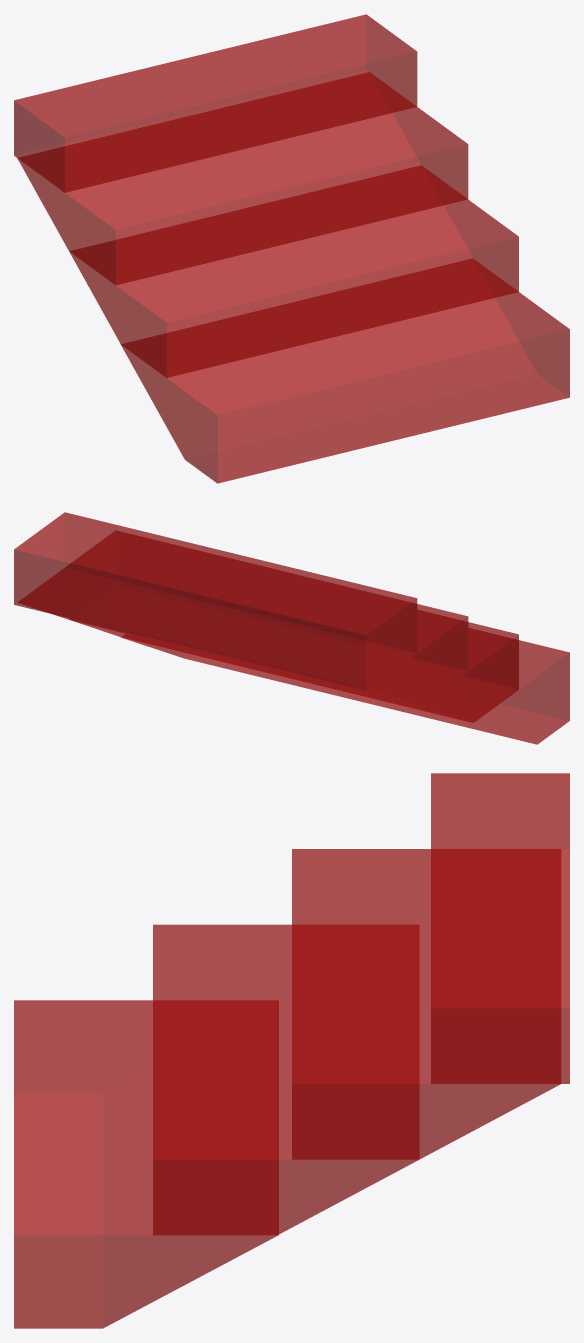
Rendered from SM_Bld_Step_01_Collision.fbx.
3 views of the same model, one above another, from view 1: azimuth 30°, elevation 25°; view 2: azimuth 150°, elevation 25°; view 3: azimuth 270°, elevation 25° (orthographic). The views are drawn at different scales.
Parts seen in each view (by area): view 1: SM_Bld_Step_01_Collision; view 2: SM_Bld_Step_01_Collision; view 3: SM_Bld_Step_01_Collision.
Part boxes in pixels (box(x1,y1,x2,y2)): SM_Bld_Step_01_Collision: box(14, 14, 569, 483); SM_Bld_Step_01_Collision: box(14, 512, 569, 744); SM_Bld_Step_01_Collision: box(14, 773, 569, 1328).
Bounding box in the file's own units: 250 × 159 × 250.
